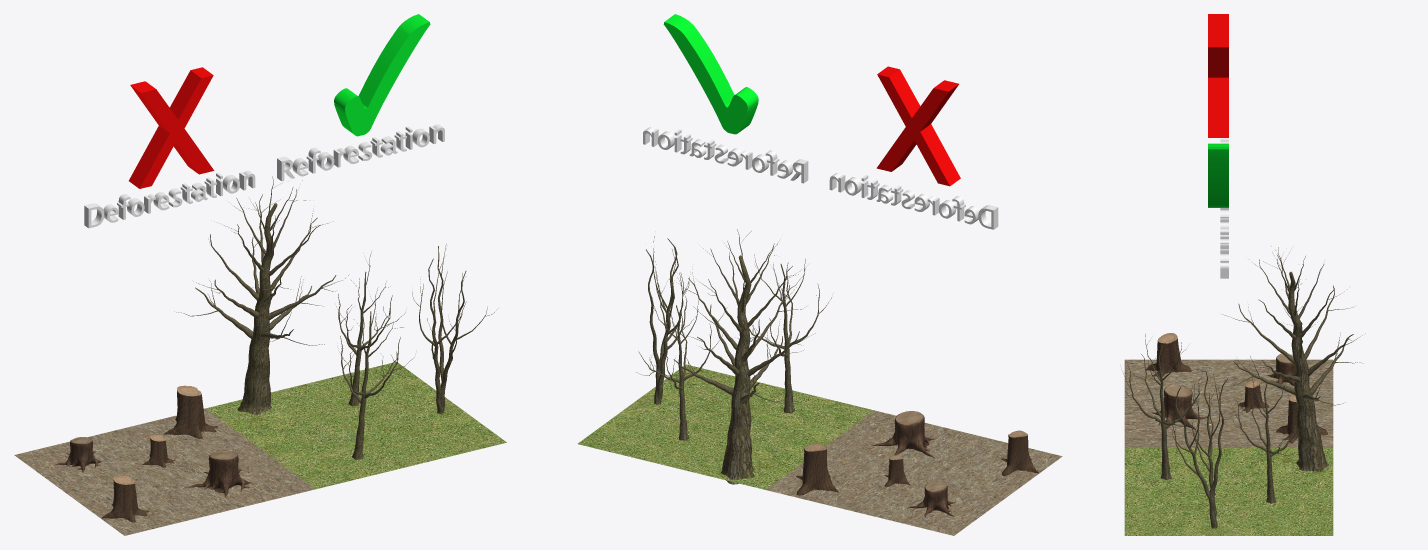
The model's file is deforestation.glb.
3 views of the same model, side by side, from view 1: azimuth 30°, elevation 25°; view 2: azimuth 150°, elevation 25°; view 3: azimuth 270°, elevation 25° (orthographic). The views are drawn at different scales.
Visible parts, largest first — view 1: pasted__pPlane1, pPlane1, treelarge, typeMesh2, typeMesh1, typeMesh3, typeMesh4, Treesmall, Treemedium, pasted__pasted__pCylinder1, Skin_ZSphere_1_oPP, pasted__Treemedium (+2 smaller); view 2: pasted__pPlane1, pPlane1, treelarge, typeMesh2, typeMesh1, typeMesh3, typeMesh4, Treesmall, Treemedium, Skin_ZSphere_1_oPP, pasted__Treemedium, pasted__pasted__pCylinder1 (+2 smaller); view 3: pasted__pPlane1, pPlane1, treelarge, typeMesh2, Treesmall, Treemedium, typeMesh1, pasted__Treemedium, Skin_ZSphere_1_oPP, pasted__pCylinder1, typeMesh4, pasted__pasted__pCylinder1 (+2 smaller).
Part boxes in pixels (bbox=[...]): pasted__pPlane1: bbox=[206, 361, 506, 489]; pPlane1: bbox=[14, 408, 315, 535]; treelarge: bbox=[174, 176, 348, 414]; typeMesh2: bbox=[129, 67, 214, 188]; typeMesh1: bbox=[334, 14, 430, 136]; typeMesh3: bbox=[84, 170, 255, 228]; typeMesh4: bbox=[277, 124, 444, 181]; Treesmall: bbox=[412, 244, 494, 413]; Treemedium: bbox=[340, 287, 414, 459]; pasted__pasted__pCylinder1: bbox=[163, 385, 217, 439]; Skin_ZSphere_1_oPP: bbox=[185, 450, 251, 497]; pasted__Treemedium: bbox=[336, 251, 405, 406]; pasted__pPlane1: bbox=[577, 364, 873, 489]; pPlane1: bbox=[766, 410, 1062, 535]; treelarge: bbox=[659, 229, 815, 484]; typeMesh2: bbox=[876, 66, 960, 186]; typeMesh1: bbox=[663, 14, 758, 134]; typeMesh3: bbox=[829, 173, 998, 229]; typeMesh4: bbox=[643, 127, 808, 183]; Treesmall: bbox=[646, 236, 689, 404]; Treemedium: bbox=[738, 255, 831, 413]; Skin_ZSphere_1_oPP: bbox=[872, 411, 936, 458]; pasted__Treemedium: bbox=[636, 297, 723, 440]; pasted__pasted__pCylinder1: bbox=[796, 443, 838, 495]; pasted__pPlane1: bbox=[1124, 448, 1333, 535]; pPlane1: bbox=[1124, 359, 1333, 447]; treelarge: bbox=[1223, 246, 1365, 471]; typeMesh2: bbox=[1208, 14, 1228, 137]; Treesmall: bbox=[1164, 371, 1227, 528]; Treemedium: bbox=[1121, 334, 1201, 479]; typeMesh1: bbox=[1208, 143, 1228, 207]; pasted__Treemedium: bbox=[1231, 371, 1303, 503]; Skin_ZSphere_1_oPP: bbox=[1151, 384, 1207, 430]; pasted__pCylinder1: bbox=[1146, 333, 1191, 377]; typeMesh4: bbox=[1220, 208, 1228, 278]; pasted__pasted__pCylinder1: bbox=[1276, 394, 1327, 443].
Size of the model in its own units: 0.2317 by 0.1996 by 0.1547.
Materials: 15 (11 with a texture image).
